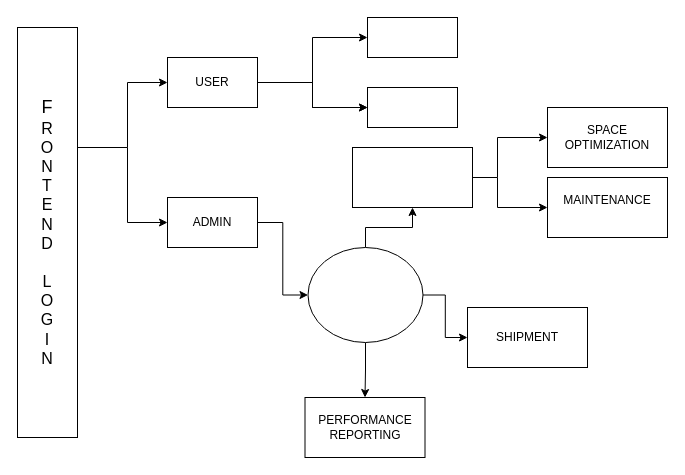
The diagram is 685 pixels wide and 475 high, and some of its shapes have lost their labels. Here are the shapes that lost their labels. From the top down, the centre of each, then its label:
At (x=412, y=37): "SERVICE".
At (x=412, y=107): "CONTACT US".
At (x=412, y=177): "INVENTORY".
At (x=365, y=294): "DASSBOARD".
